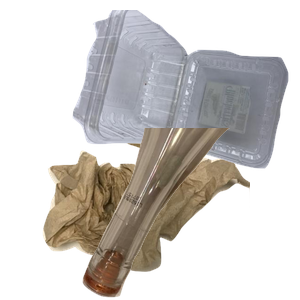glass: (80, 128, 300, 300)
metal: (84, 53, 279, 202)
plastic: (70, 10, 300, 171)
trash: (40, 138, 280, 300)
